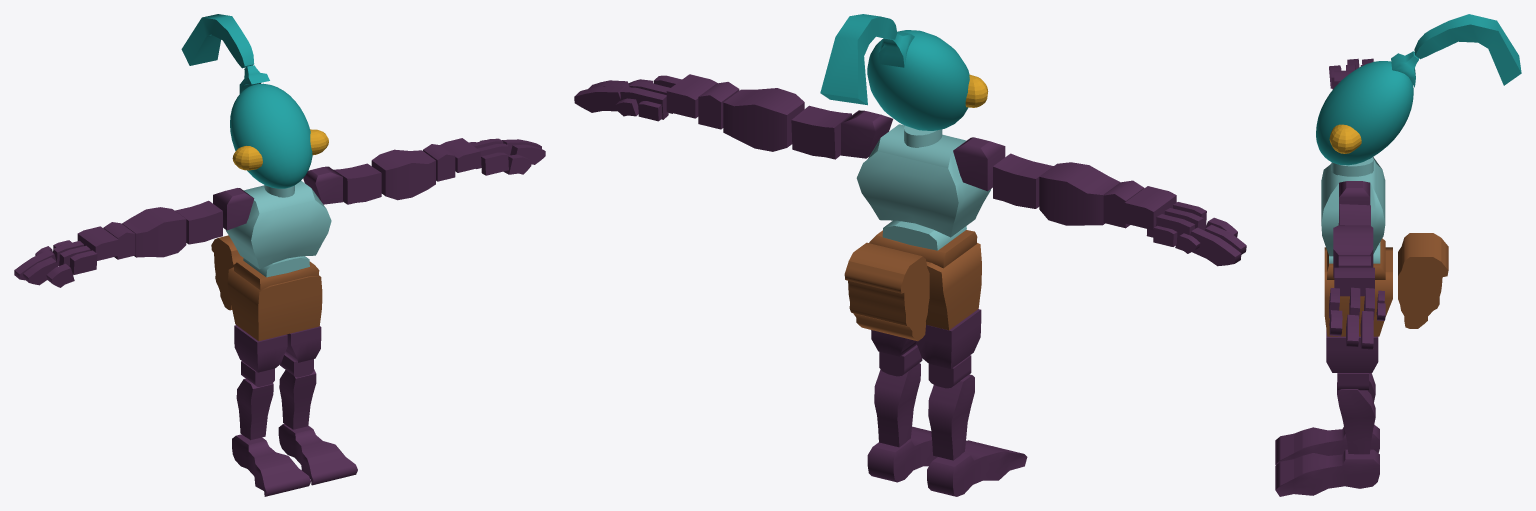
Rendered from Abers.fbx.
The picture shows the model from 3 angles, left to right: view 1: azimuth 30°, elevation 25°; view 2: azimuth 150°, elevation 25°; view 3: azimuth 270°, elevation 25°; orthographic projection. The views are drawn at different scales.
Visible parts, largest first — view 1: Head1, Torso, Hips, RightFoot, LeftFoot, LeftForeArm, RForeArm, RightCalve, LeftCalve, RightQuad, RArm, LeftBicep (+16 smaller); view 2: Head1, Torso, SashBehind, LeftForeArm, RForeArm, Hips, RightFoot, RightCalve, LeftCalve, LeftFoot, RightQuad, LeftBicep (+17 smaller); view 3: Head1, SashBehind, LeftFoot, Torso, RightFoot, LeftCalve, Hips, LeftQuad, LeftForeArm, LeftPalm, Leftshoulder, LeftRingFinger (+8 smaller).
Boxes of the visible parts, bbox=[...] form: Head1: bbox=[181, 14, 312, 188]; Torso: bbox=[226, 181, 331, 269]; Hips: bbox=[227, 267, 322, 341]; RightFoot: bbox=[232, 434, 310, 496]; LeftFoot: bbox=[278, 424, 357, 485]; LeftForeArm: bbox=[371, 149, 435, 200]; RForeArm: bbox=[122, 207, 186, 257]; RightCalve: bbox=[236, 378, 273, 440]; LeftCalve: bbox=[279, 369, 316, 429]; RightQuad: bbox=[234, 325, 287, 372]; RArm: bbox=[175, 200, 222, 244]; LeftBicep: bbox=[333, 163, 381, 204]; Head1: bbox=[820, 14, 969, 130]; Torso: bbox=[856, 124, 990, 237]; SashBehind: bbox=[844, 242, 929, 341]; LeftForeArm: bbox=[723, 88, 804, 151]; RForeArm: bbox=[1039, 162, 1120, 225]; Hips: bbox=[926, 243, 981, 330]; RightFoot: bbox=[927, 440, 1027, 496]; RightCalve: bbox=[928, 374, 974, 460]; LeftCalve: bbox=[874, 363, 920, 447]; LeftFoot: bbox=[867, 426, 966, 482]; RightQuad: bbox=[915, 309, 981, 368]; LeftBicep: bbox=[791, 105, 851, 159]; Head1: bbox=[1316, 14, 1521, 165]; SashBehind: bbox=[1398, 233, 1448, 328]; LeftFoot: bbox=[1275, 449, 1379, 496]; Torso: bbox=[1321, 157, 1385, 256]; RightFoot: bbox=[1275, 425, 1379, 464]; LeftCalve: bbox=[1337, 382, 1375, 454]; Hips: bbox=[1324, 247, 1392, 336]; LeftQuad: bbox=[1326, 330, 1378, 372]; LeftForeArm: bbox=[1333, 225, 1373, 277]; LeftPalm: bbox=[1334, 267, 1374, 296]; Leftshoulder: bbox=[1339, 181, 1370, 215]; LeftRingFinger: bbox=[1360, 288, 1374, 349].
Bounding box in the file's own units: 9.08 × 6.78 × 3.33.
